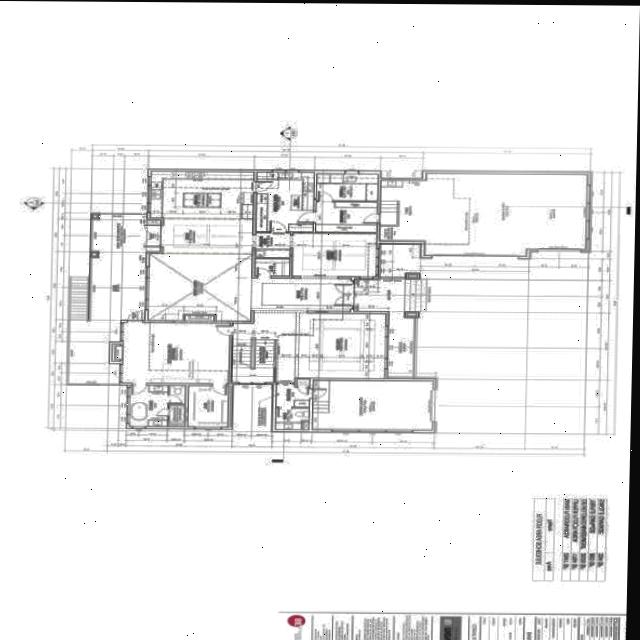room: (122, 321, 230, 383), (312, 379, 432, 429), (292, 232, 377, 276), (256, 171, 314, 231), (163, 217, 253, 254), (316, 201, 377, 231), (188, 384, 229, 427), (316, 173, 378, 200), (130, 384, 168, 426), (354, 277, 379, 311), (255, 232, 290, 256), (276, 383, 310, 406), (275, 407, 309, 429), (255, 257, 290, 275), (169, 404, 185, 426), (170, 384, 186, 403)
